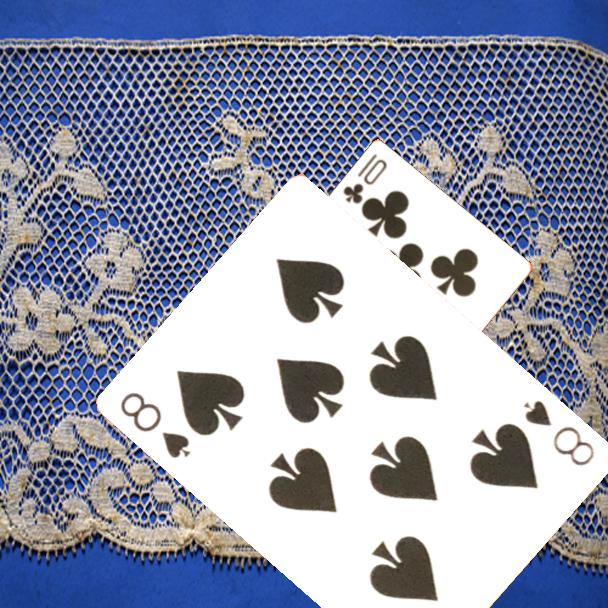c10: (339, 150, 390, 208)
s08: (117, 388, 194, 462), (521, 396, 599, 469)
